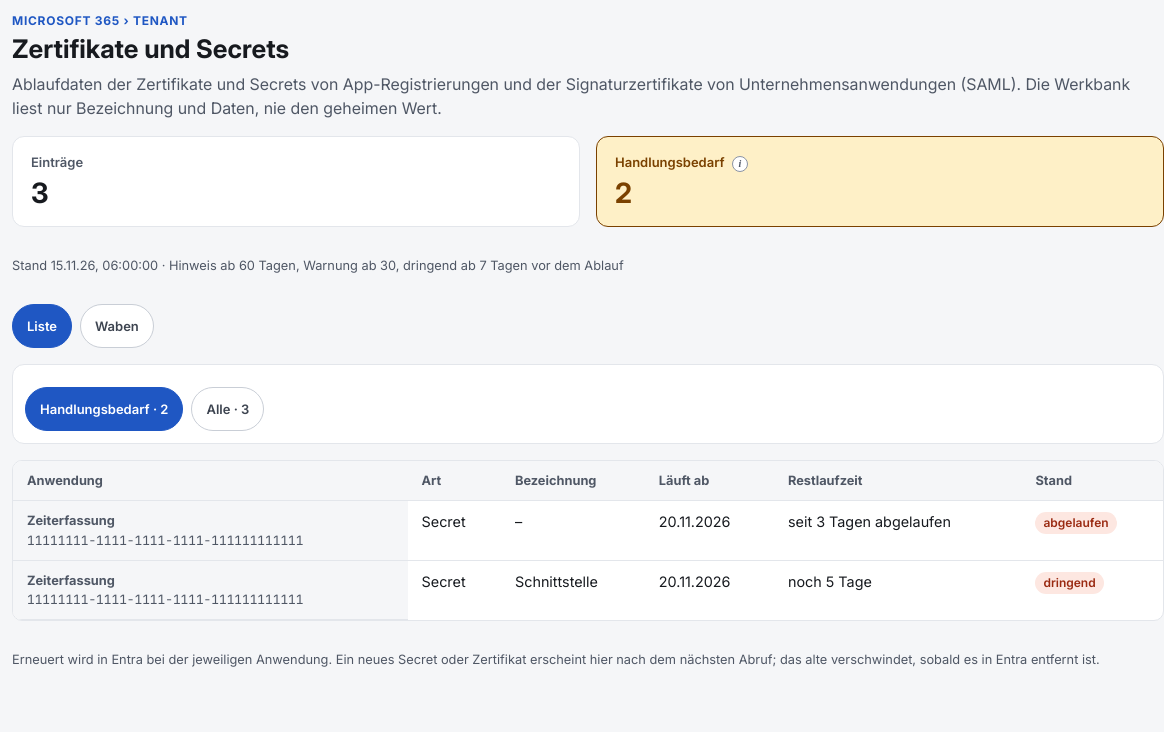
Zertifikate und Secrets › zeigt zuerst den Handlungsbedarf und auf Wunsch alles
Expected: the number of rows is 3, [13,461,1163,501]; [13,502,1163,560]; [13,560,1163,620]
Expected: the text "seit 3 Tagen abgelaufen" is shown, [774,502,1022,560]
Click the button "Alle · 3".
click(228, 409)  # box [191,387,264,431]
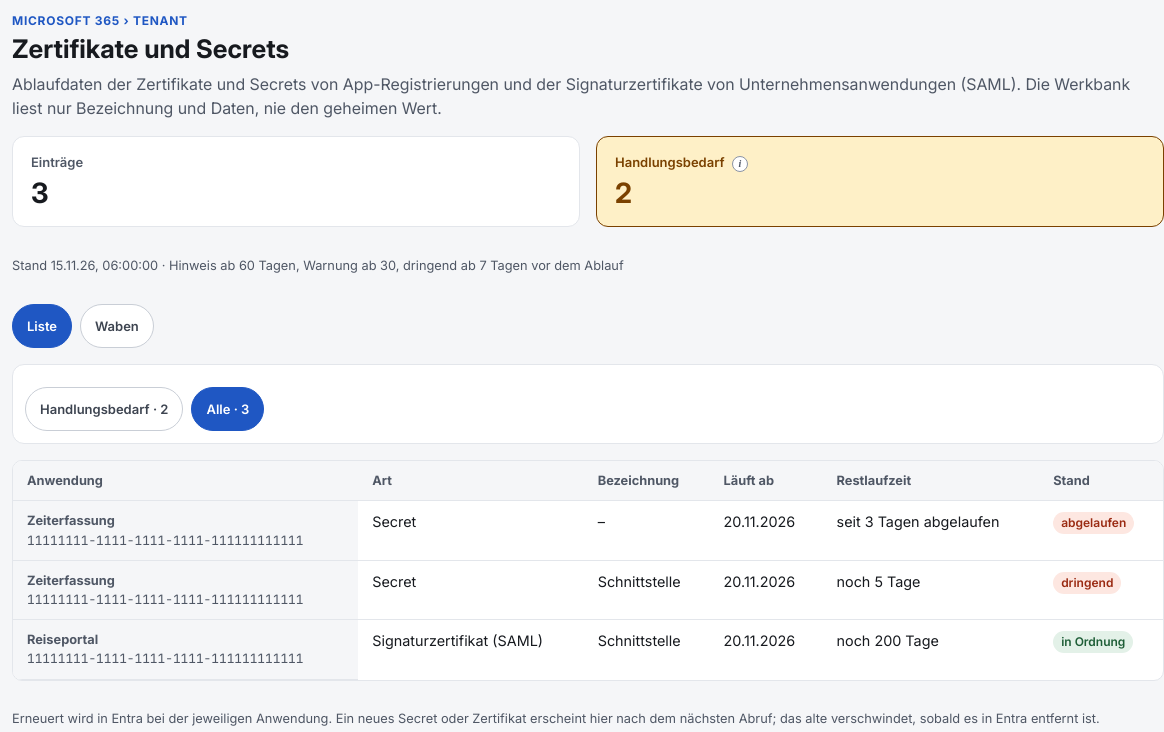
Result: the row "Reiseportal" shows "Signaturzertifikat (SAML)" at [372,632,543,649]
